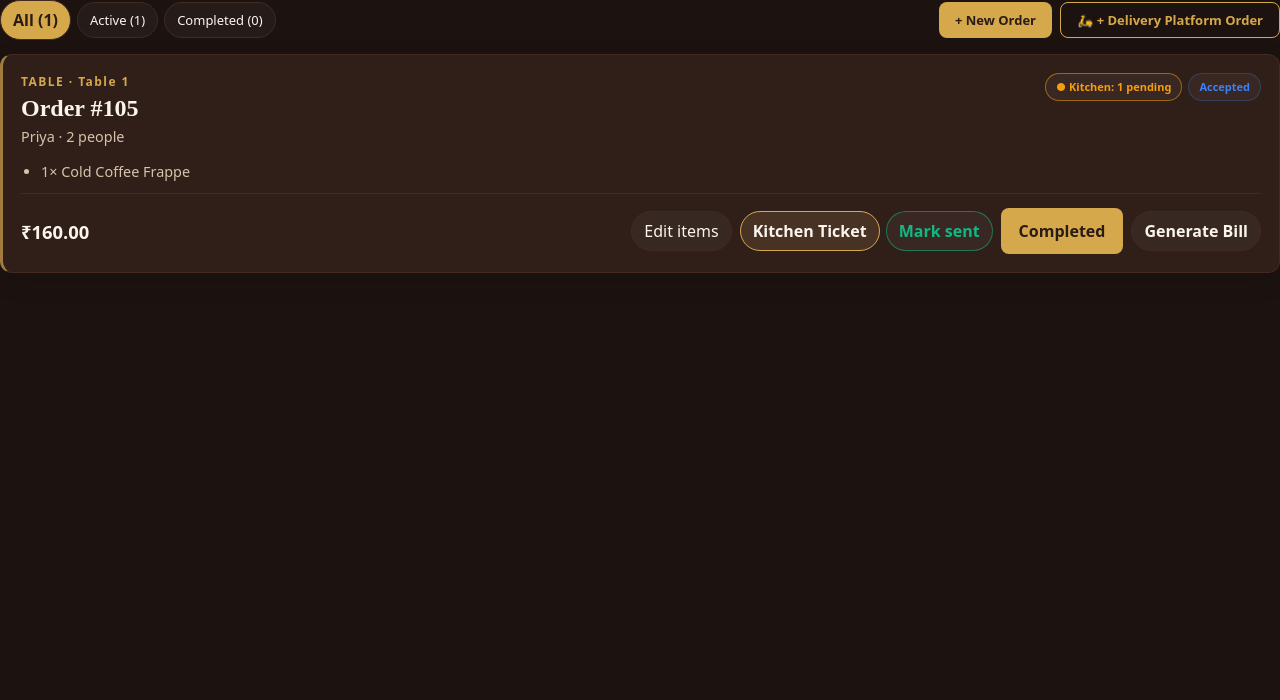
Test case: OrderBoard Simplified Workflow & Clean Interface › renders high-contrast dropdown selector with dark brown text on white options and light color-scheme
The image size is (1280, 700).
Note: Click "Edit items" to show item editor
Click the button "Edit items". click: x=682, y=231
box: [631,211,732,251]
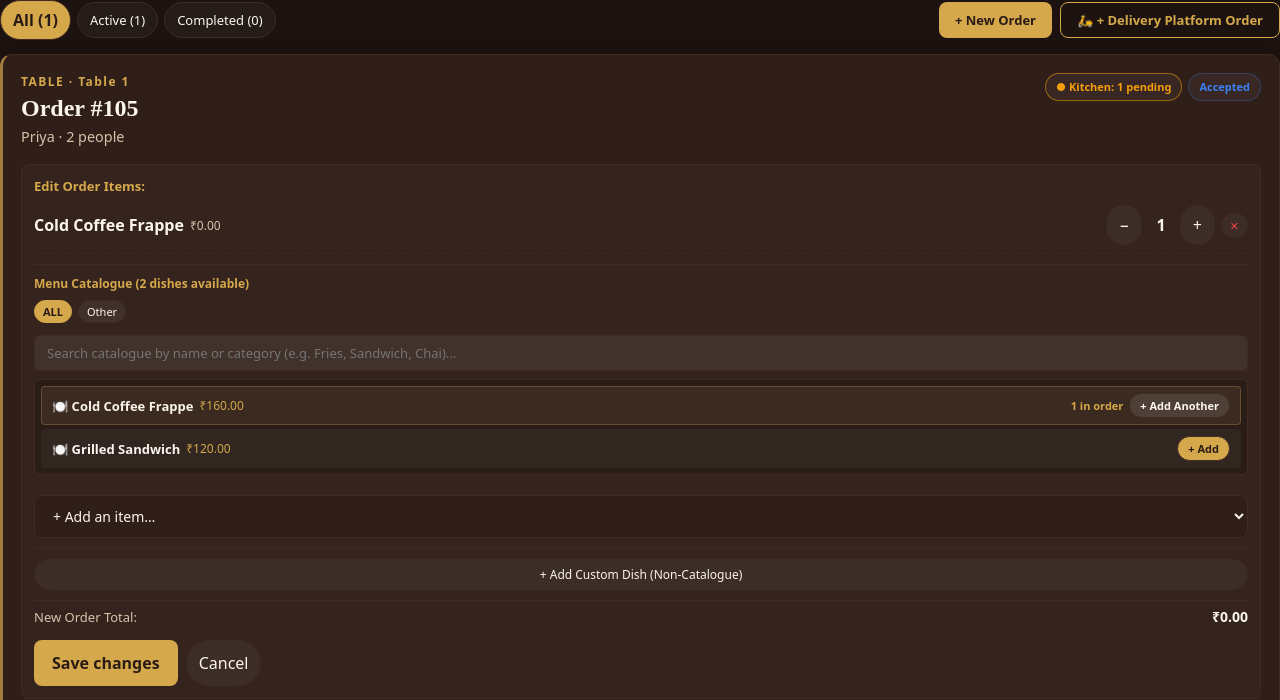
Expected: the dropdown named "Add an item to order" is shown
Note: Add item by selecting it
Select "Grilled Sandwich · ₹120.00" in the dropdown named "Add an item to order". click: x=641, y=516
box: [34,495,1248,538]
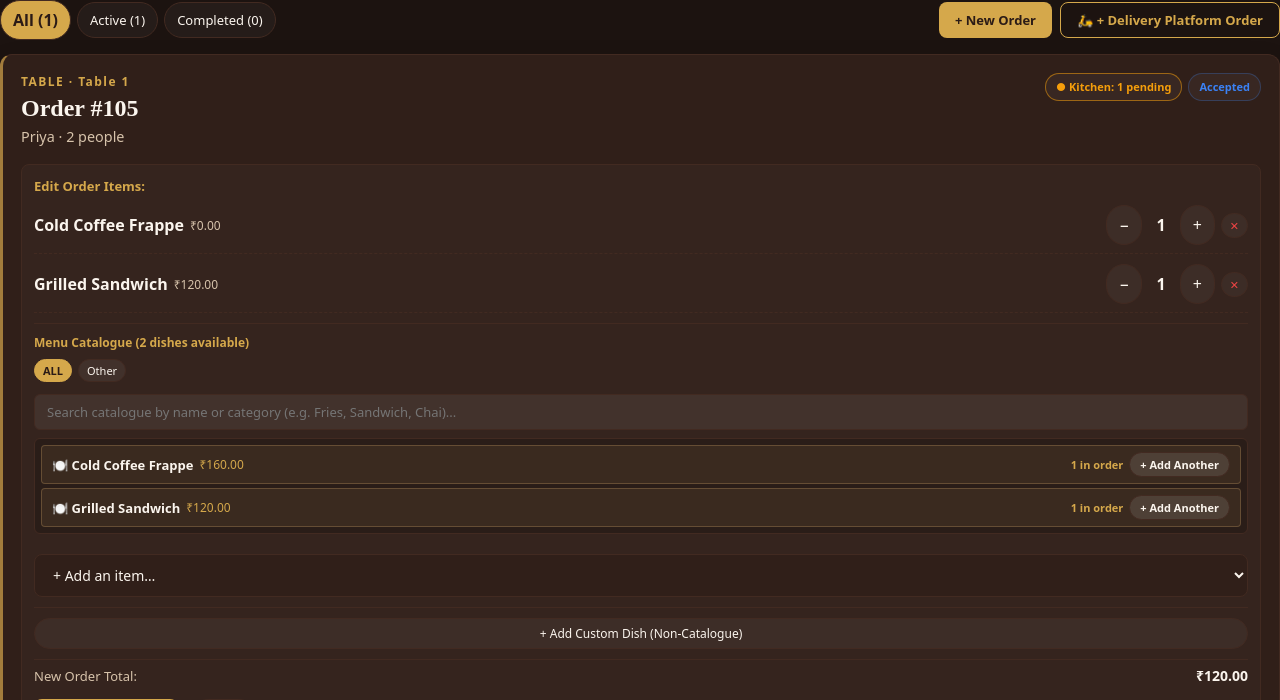
Expected: the text "Grilled Sandwich" is shown, [34,273,168,295]
